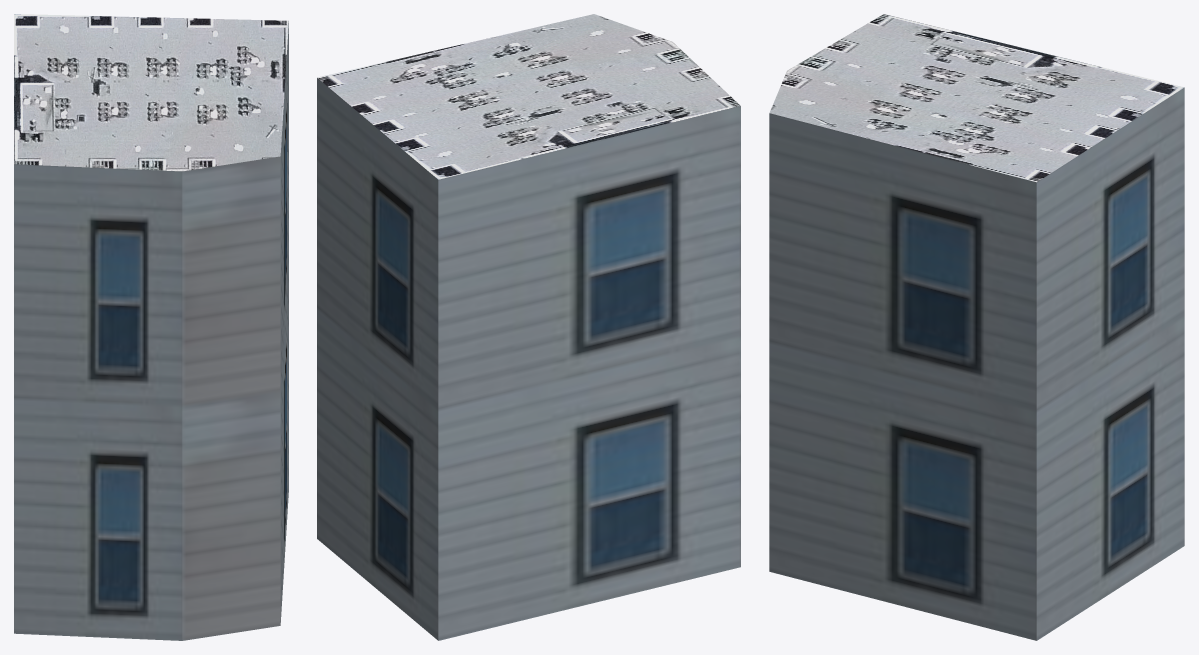
The model's file is ResTex__794.fbx.
3 views of the same model, side by side, from view 1: azimuth 30°, elevation 25°; view 2: azimuth 150°, elevation 25°; view 3: azimuth 270°, elevation 25° (orthographic). The views are drawn at different scales.
Visible parts, largest first — view 1: CityEngineMaterial_18_m, CityEngineMaterial_m; view 2: CityEngineMaterial_18_m, CityEngineMaterial_m; view 3: CityEngineMaterial_18_m, CityEngineMaterial_m.
Part boxes in pixels (x1,y1,x2,y2): CityEngineMaterial_18_m: (14,23,288,640); CityEngineMaterial_m: (14,14,288,171); CityEngineMaterial_18_m: (317,78,740,640); CityEngineMaterial_m: (317,14,740,179); CityEngineMaterial_18_m: (769,87,1184,640); CityEngineMaterial_m: (769,14,1183,182).
Size of the model in its own units: 4.72 by 6 by 4.92.
2 materials, 2 textured.
